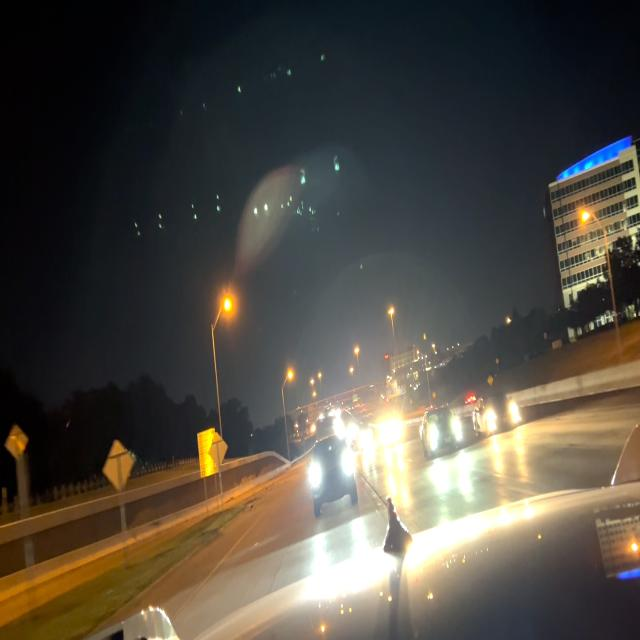back-of-sign: (104, 438, 134, 491), (198, 424, 220, 480), (8, 421, 26, 464), (210, 434, 229, 470)
